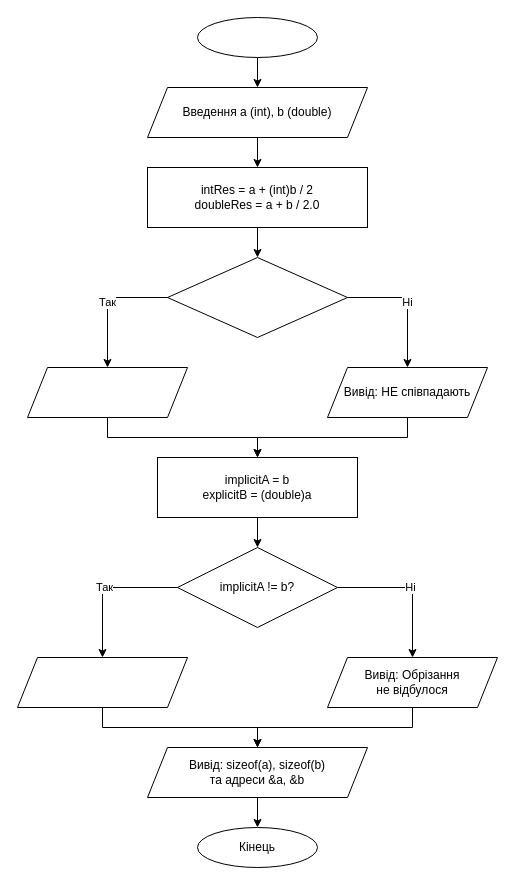
This 515x885 diagram has some shape labels left out. Each missing label, with the centre of its shape:
intRes == doubleRes?: [257,297]
Вивід: Відбулося обрізання даних: [102,682]
Вивід: Співпадають: [107,392]
Початок: [257,37]
